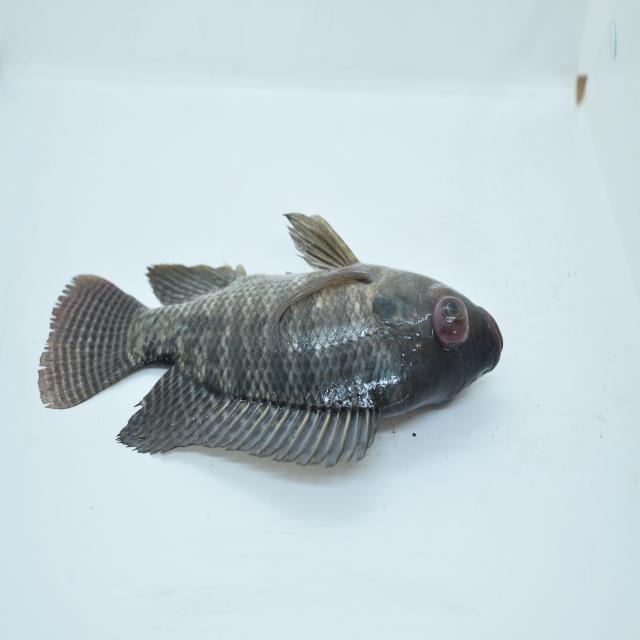streptococcus Disease: (36, 210, 506, 467)
